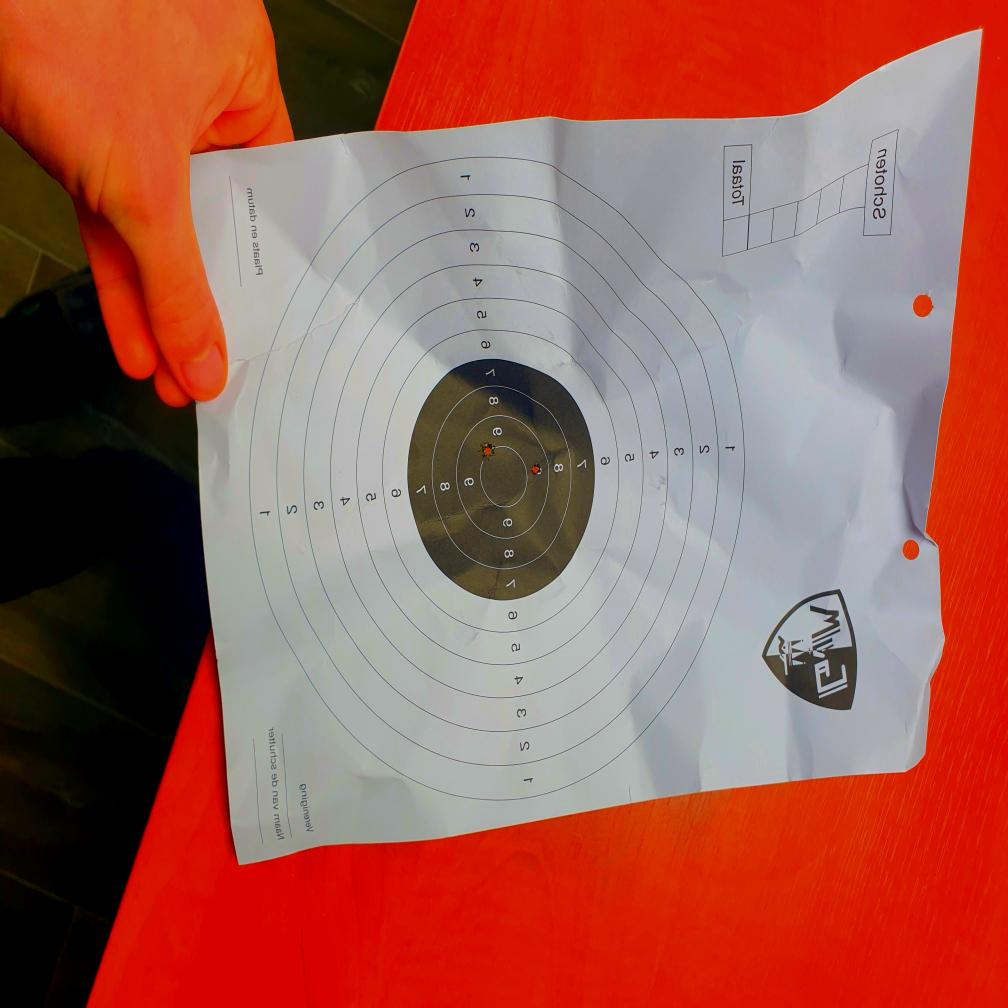10: (476, 441, 496, 462)
9: (530, 462, 542, 476)
Target: (249, 150, 746, 799)
black_contour: (406, 358, 595, 601)
